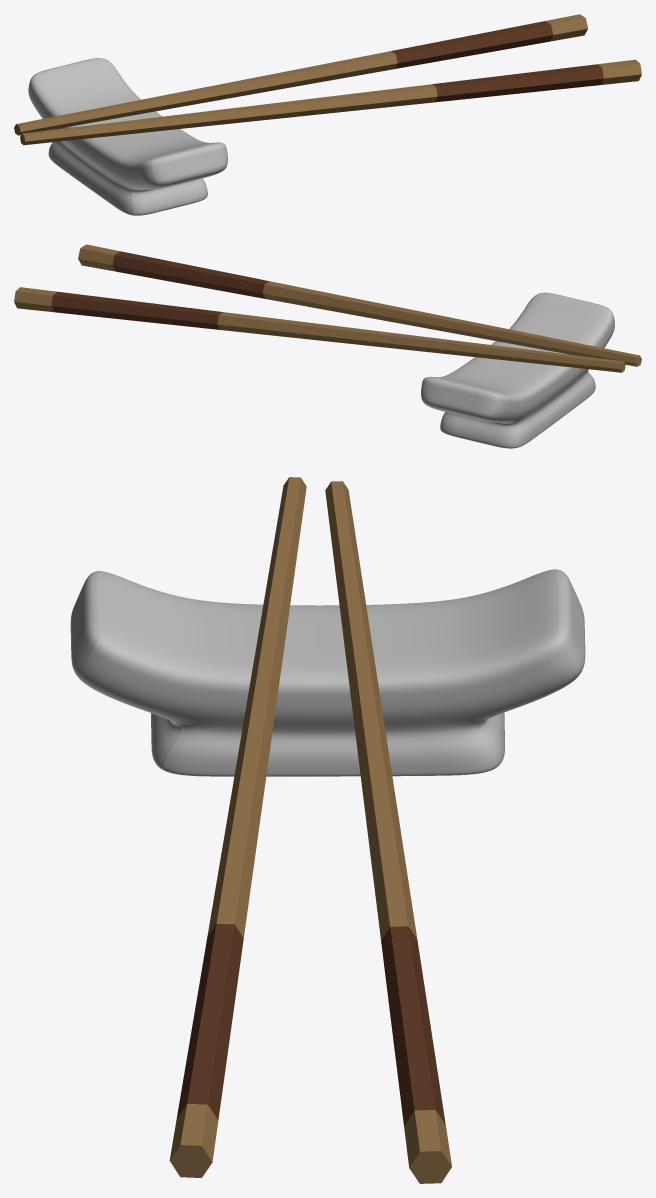
Rendered from Chop stick.fbx.
The picture shows the model from 3 angles, top to bottom: view 1: azimuth 30°, elevation 25°; view 2: azimuth 150°, elevation 25°; view 3: azimuth 270°, elevation 25°; orthographic projection. The views are drawn at different scales.
Visible parts, largest first — view 1: chopstick_rest_001, Stick.001, Stick.002; view 2: chopstick_rest_001, Stick.002, Stick.001; view 3: chopstick_rest_001, Stick.002, Stick.001.
Part boxes in pixels (x1,y1,x2,y2): chopstick_rest_001: (28,58,227,215); Stick.001: (20,59,641,145); Stick.002: (14,14,588,135); chopstick_rest_001: (421,292,614,448); Stick.002: (14,287,625,372); Stick.001: (78,244,641,366); chopstick_rest_001: (70,569,585,776); Stick.002: (325,481,451,1183); Stick.001: (169,477,306,1177).
Size of the model in its own units: 603 by 75.07 by 229.
